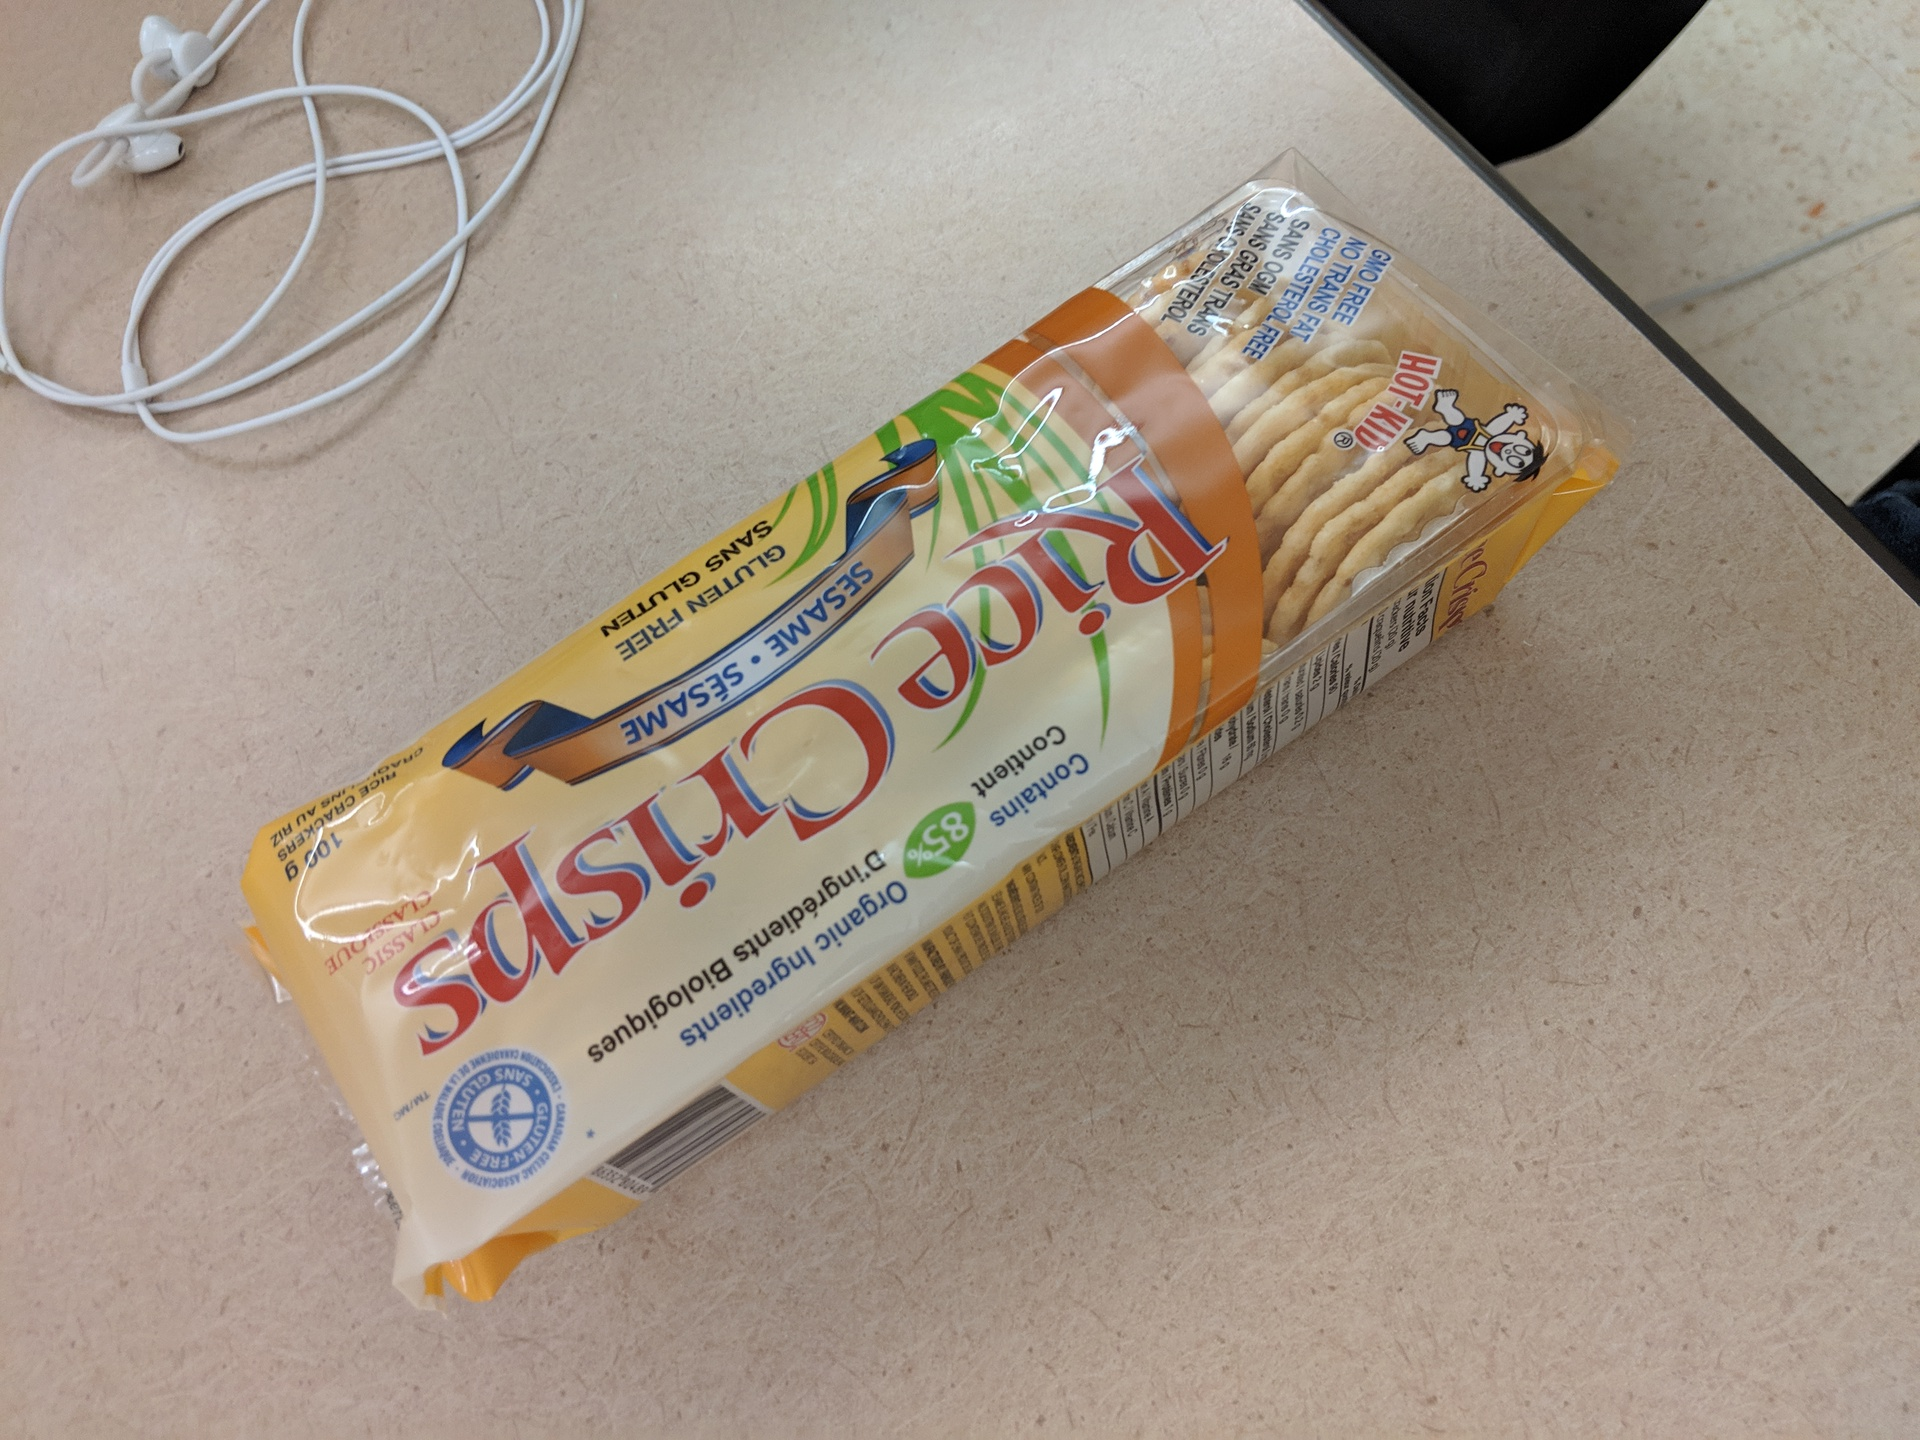hot_kid_rice_crisps_sesame: (231, 140, 1643, 1313)
